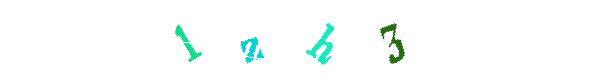1: (225, 0, 305, 80)
3: (354, 0, 434, 80)
H: (265, 0, 345, 80)
Z: (261, 0, 341, 80)
